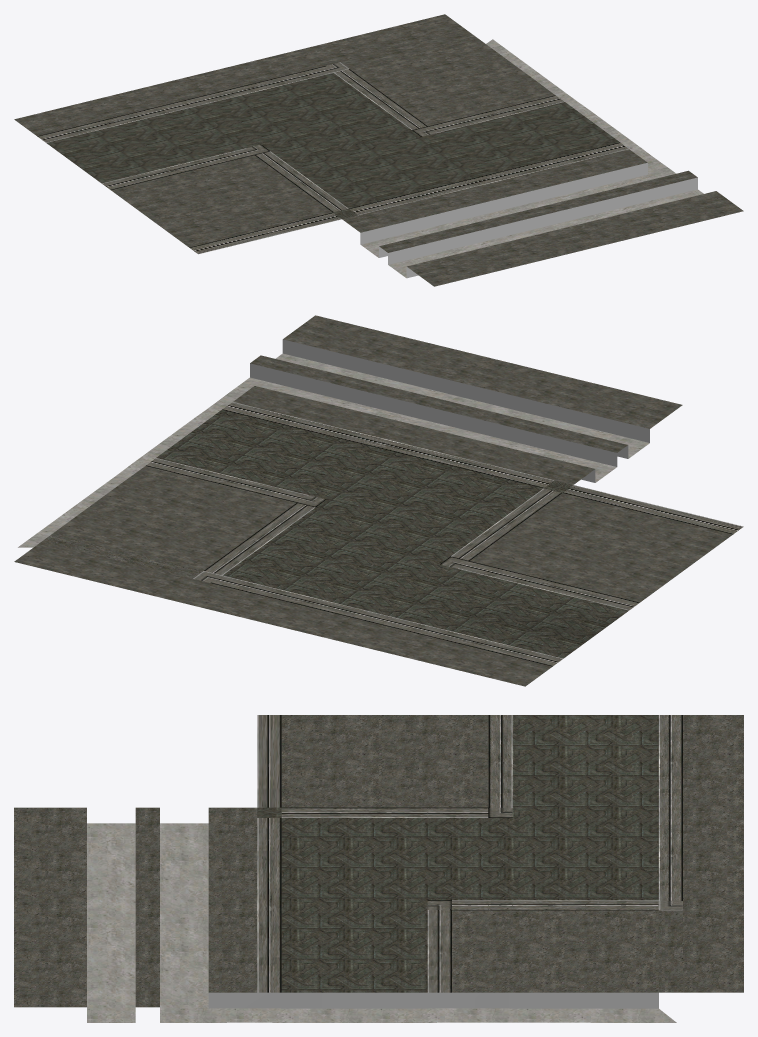
File: DWARF_PALACE_MAINHALL_FLOOR06.obj
3 views of the same model, one above another, from view 1: azimuth 30°, elevation 25°; view 2: azimuth 150°, elevation 25°; view 3: azimuth 270°, elevation 25° (orthographic). The views are drawn at different scales.
Parts seen in each view (by area): view 1: ainhall_floor06; view 2: ainhall_floor06; view 3: ainhall_floor06.
Part boxes in pixels (bbox=[...]): ainhall_floor06: bbox=[14, 14, 743, 286]; ainhall_floor06: bbox=[14, 315, 743, 686]; ainhall_floor06: bbox=[14, 715, 743, 1022].
Bounding box in the file's own units: 2840 × 71.29 × 3000.
